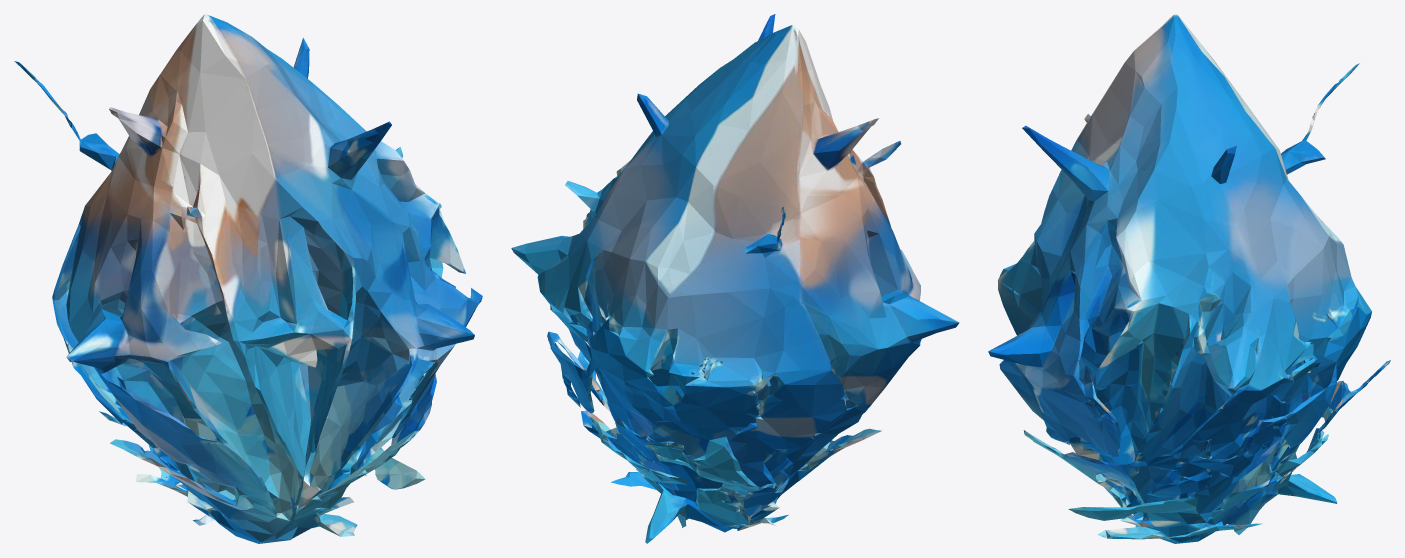
File: ice_spike.glb
3 renders of one model, left to right at view 1: azimuth 30°, elevation 25°; view 2: azimuth 150°, elevation 25°; view 3: azimuth 270°, elevation 25°, orthographic. The views are drawn at different scales.
Visible parts, largest first — view 1: tmp46wwbrp7.ply; view 2: tmp46wwbrp7.ply; view 3: tmp46wwbrp7.ply.
Part boxes in pixels (x1,y1,x2,y2): tmp46wwbrp7.ply: [14, 14, 482, 543]; tmp46wwbrp7.ply: [511, 14, 959, 543]; tmp46wwbrp7.ply: [988, 14, 1390, 543].
Size of the model in its own units: 1.65 by 2 by 1.47.
Materials: 1 (1 with a texture image).
